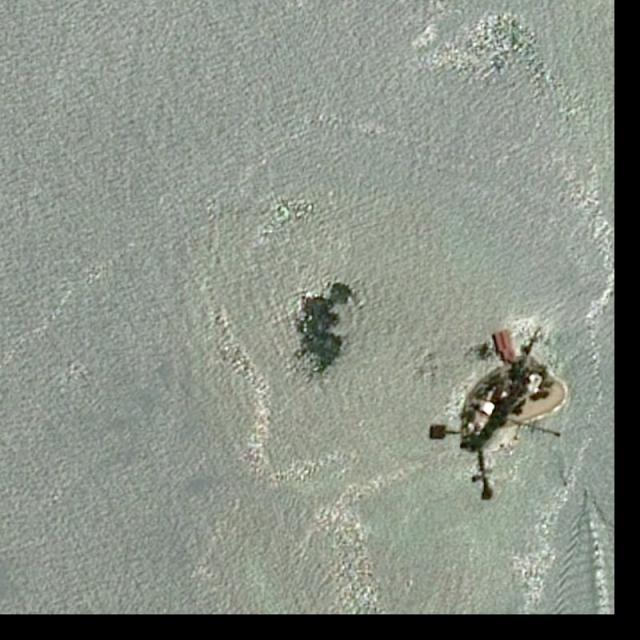ship: (586, 489, 592, 498)
